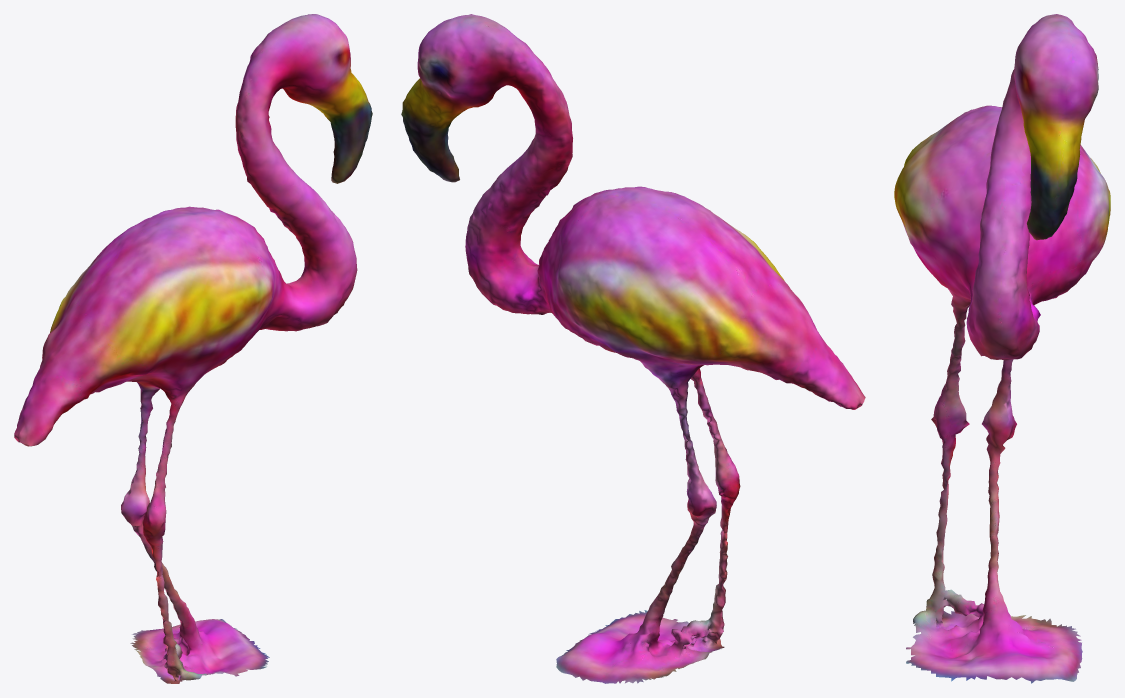
Rendered from flamingo.glb.
The picture shows the model from 3 angles, left to right: view 1: azimuth 30°, elevation 25°; view 2: azimuth 150°, elevation 25°; view 3: azimuth 270°, elevation 25°; orthographic projection. The views are drawn at different scales.
Parts seen in each view (by area): view 1: Mesh1; view 2: Mesh1; view 3: Mesh1.
Boxes of the visible parts, x1,y1,x2,y2 form: Mesh1: (14, 14, 372, 683); Mesh1: (401, 14, 865, 683); Mesh1: (894, 14, 1110, 683).
Size of the model in its own units: 0.7311 by 1.05 by 0.2892.
1 material, 1 textured.
